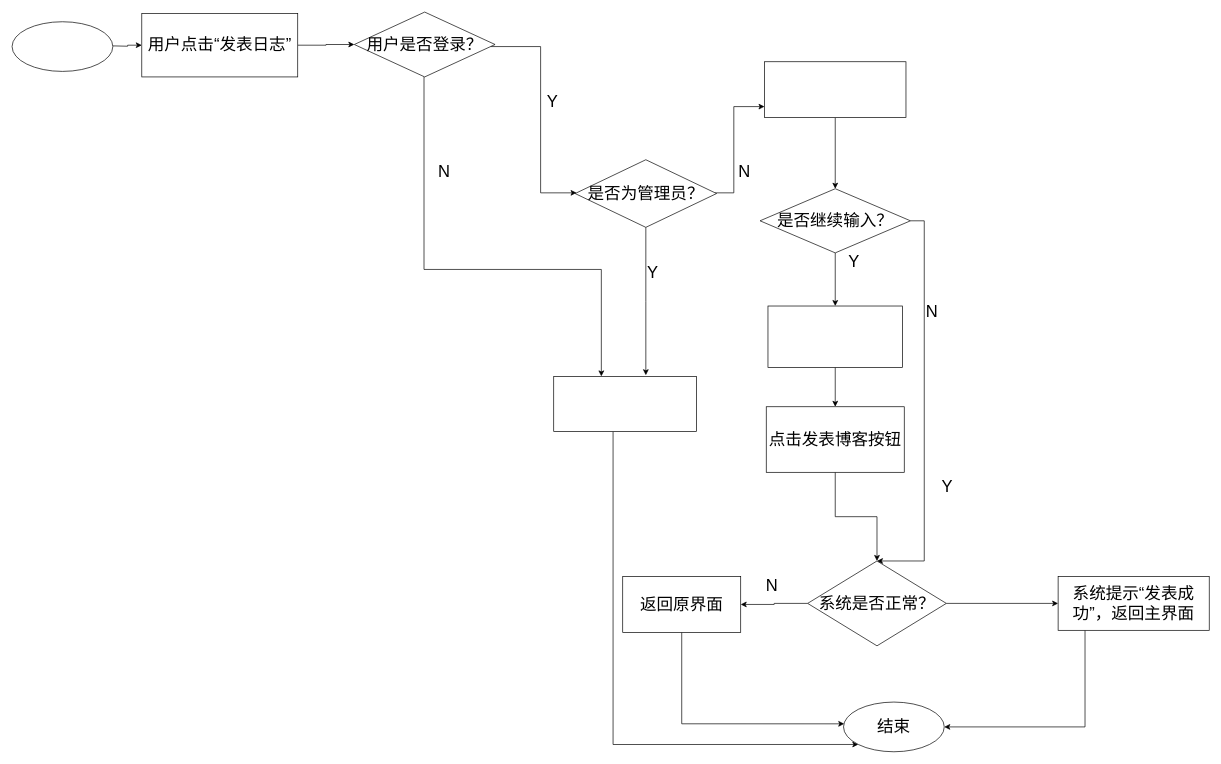
Image size: 1221x764. Some labels were removed from this diagram. The shapes that lost their labels are listed below. From the top down, each one's centre as x and y in pixels, then its label:
the point at 62,46: 开始
the point at 835,89: 用户输入博客内容
the point at 835,336: 继续输入博客内容
the point at 625,404: 没有发表日志权限
